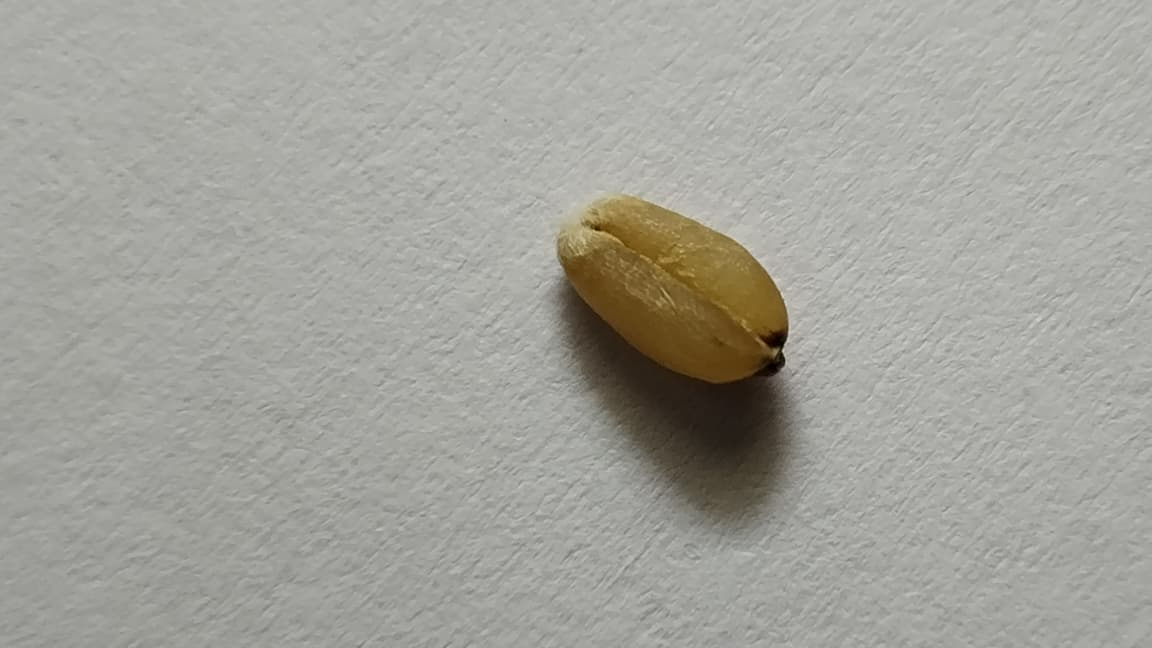healthy: (556, 193, 788, 387)
